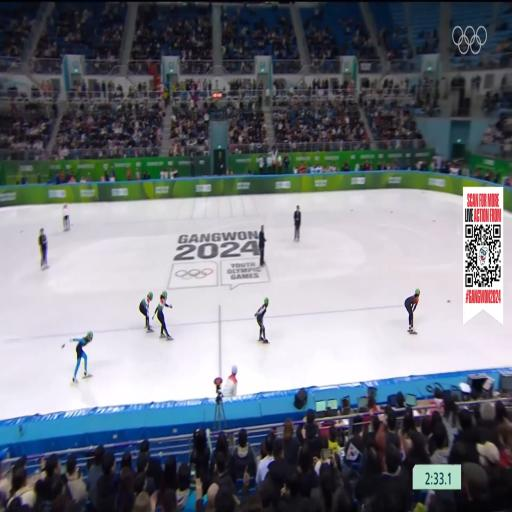Skater: (70, 332, 93, 384), (152, 292, 172, 340), (404, 289, 420, 334), (255, 298, 268, 343), (140, 292, 153, 332)
